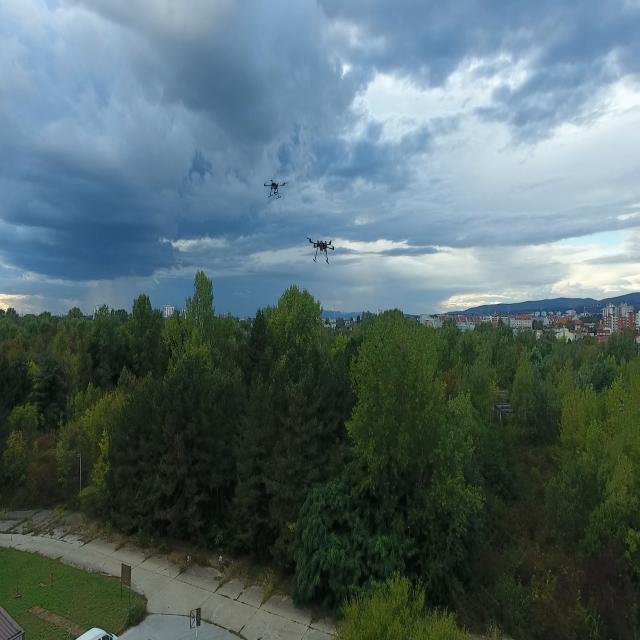UAV: (298, 230, 348, 269), (259, 174, 288, 204)
